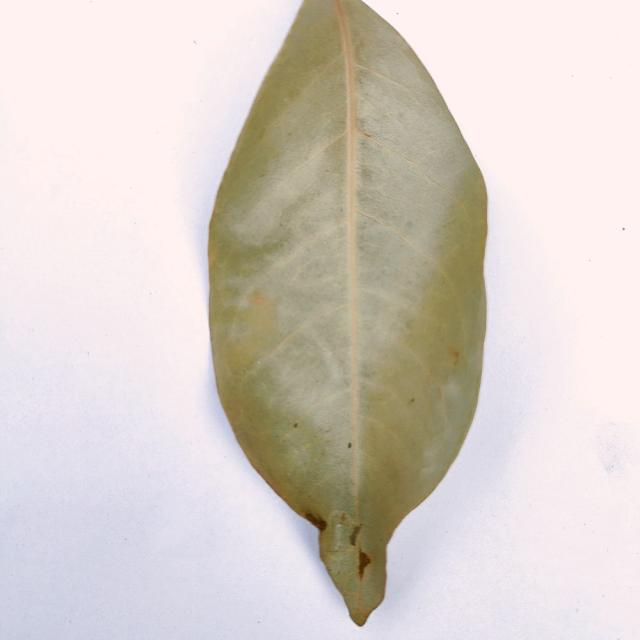Dry_Leaf-Lychee: (206, 0, 490, 628)
